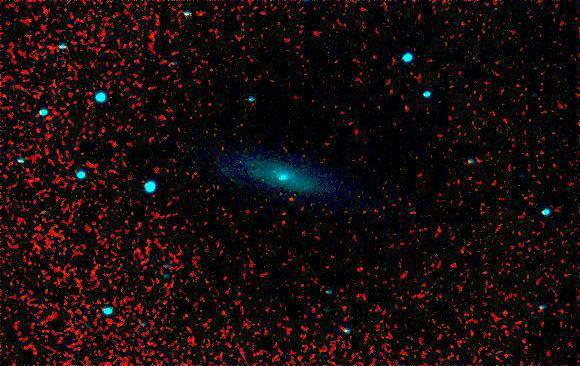star: (277, 185, 307, 215)
